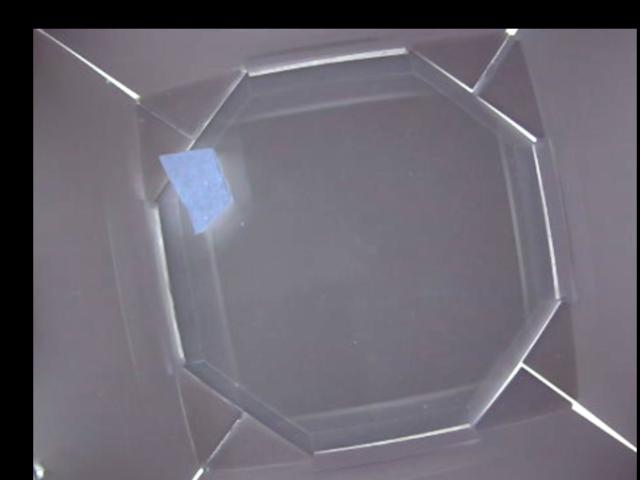China: (159, 148, 235, 236)
